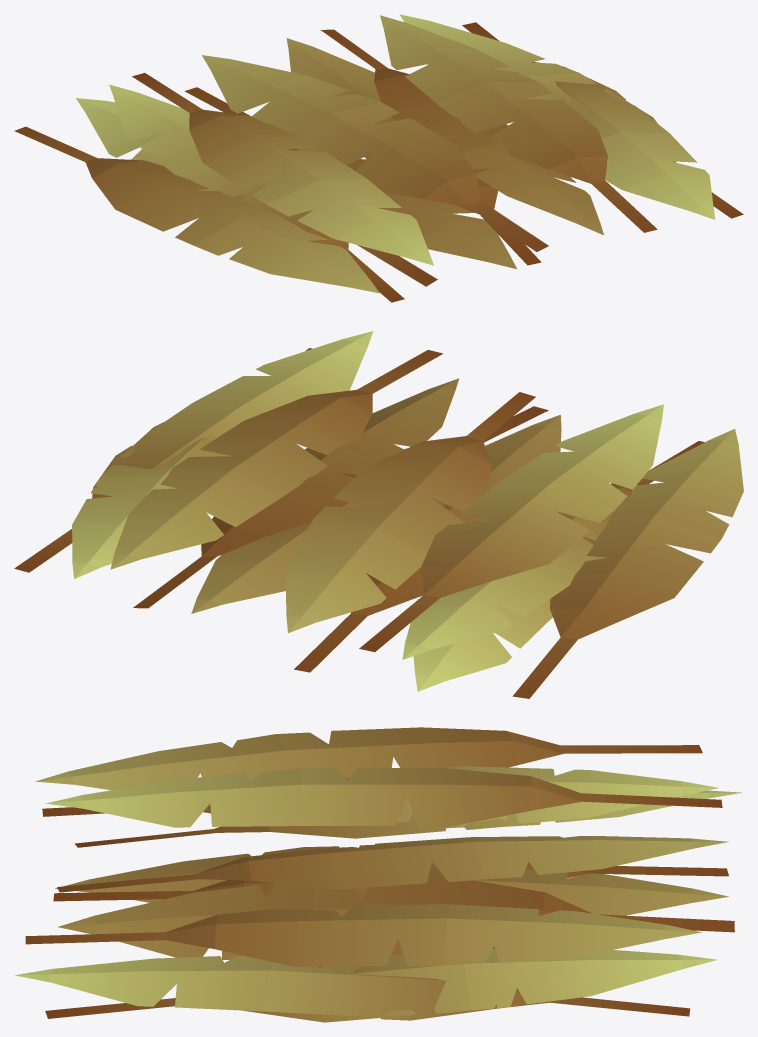
3 views of the same model, one above another, from view 1: azimuth 30°, elevation 25°; view 2: azimuth 150°, elevation 25°; view 3: azimuth 270°, elevation 25° (orthographic). The views are drawn at different scales.
Parts seen in each view (by area): view 1: Plane.009; view 2: Plane.009; view 3: Plane.009.
Part boxes in pixels (<box>): Plane.009: <box>14,14,743,302</box>; Plane.009: <box>14,331,743,698</box>; Plane.009: <box>15,727,742,1022</box>.
Bounding box in the file's own units: 4.06 × 0.3877 × 4.24.
